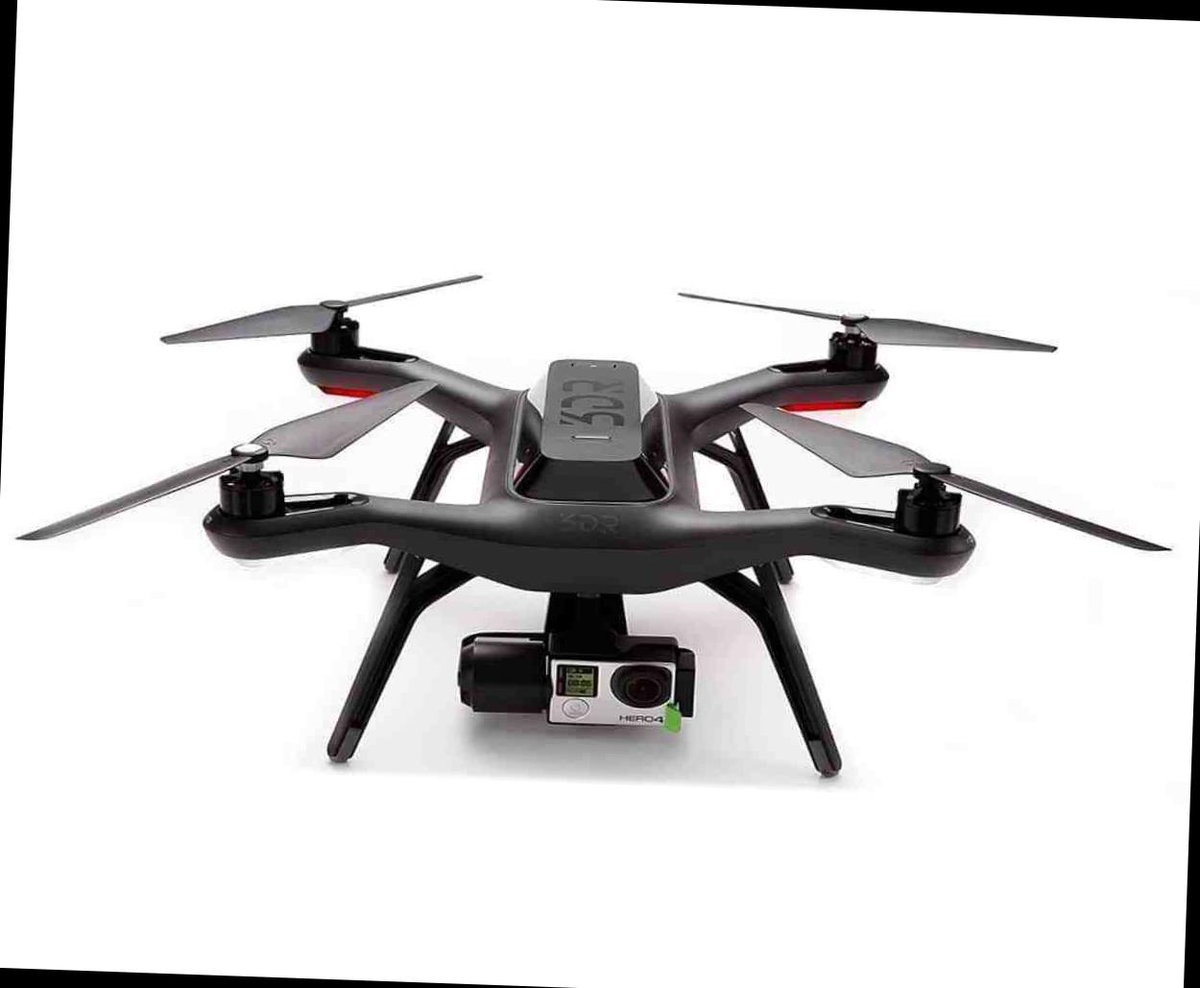drone: (42, 232, 1200, 679)
